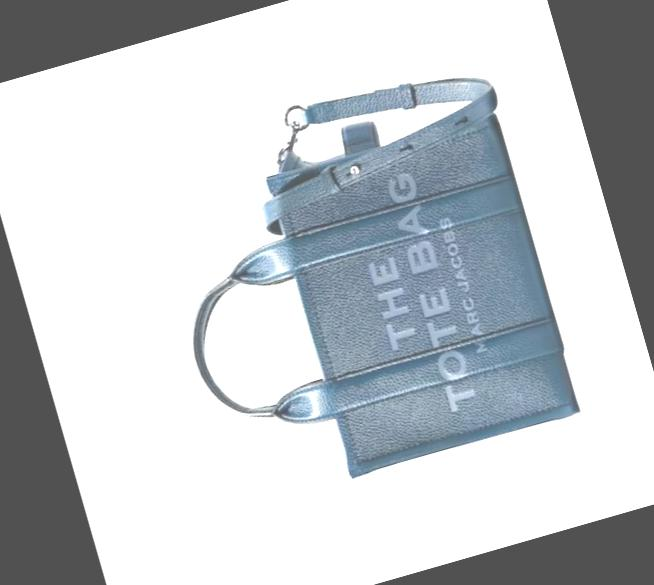MARC-JACOBS: (437, 214, 487, 352)
